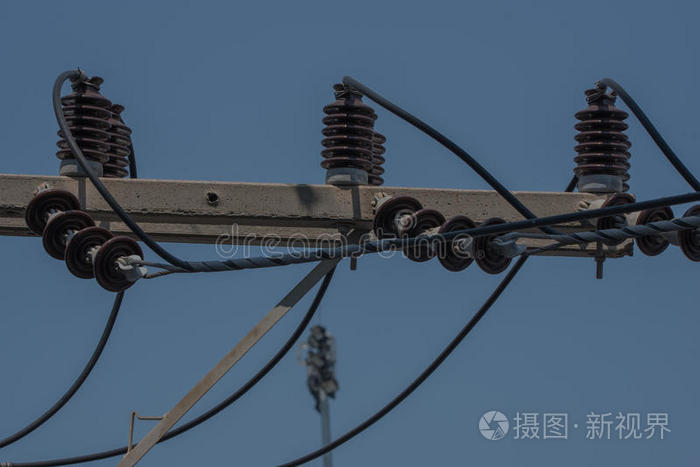insulator: (24, 189, 141, 294), (371, 196, 510, 276), (595, 193, 700, 264)
